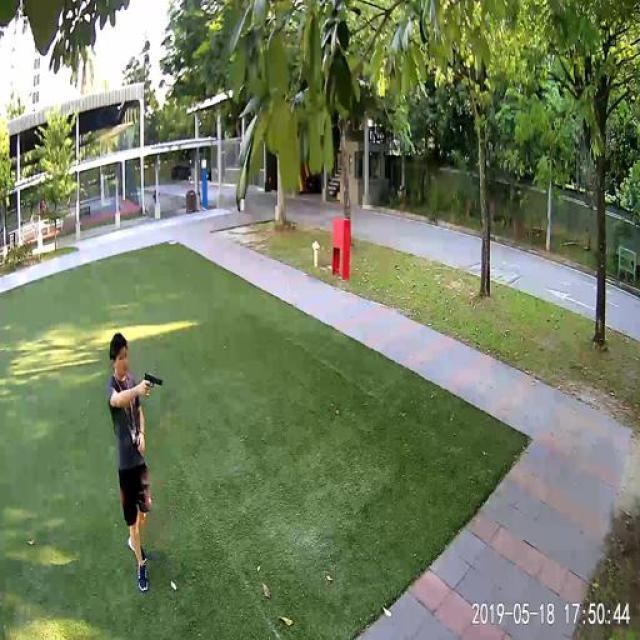Gun: (136, 369, 172, 405)
